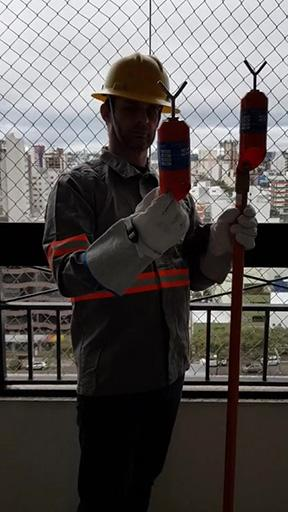Detector_Tensao_Contato: (156, 79, 190, 201), (237, 57, 270, 170)
Vara_Manobra: (222, 169, 249, 512)
